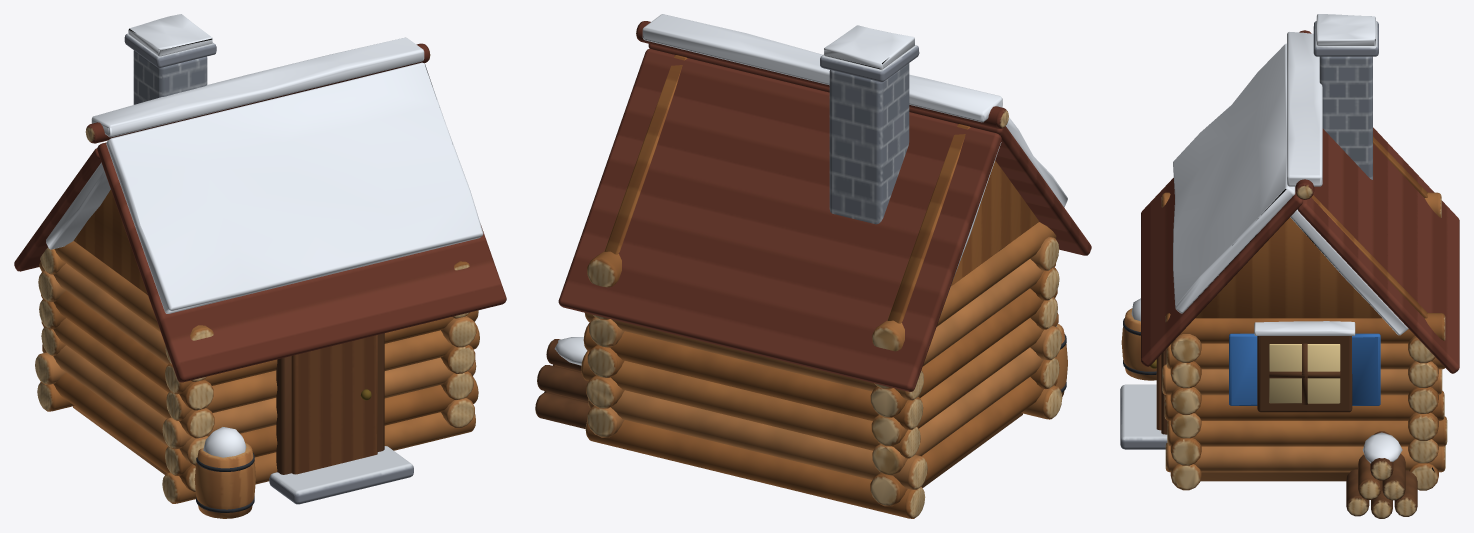
The model's file is worker_hut.glb.
3 views of the same model, side by side, from view 1: azimuth 30°, elevation 25°; view 2: azimuth 150°, elevation 25°; view 3: azimuth 270°, elevation 25° (orthographic). The views are drawn at different scales.
Parts seen in each view (by area): view 1: br_body; view 2: br_body; view 3: br_body.
Part boxes in pixels (x1,y1,x2,y2): br_body: [14, 14, 506, 518]; br_body: [535, 14, 1091, 518]; br_body: [1120, 14, 1459, 518].
Size of the model in its own units: 3.5 by 3.42 by 2.86.
1 material, 1 textured.
